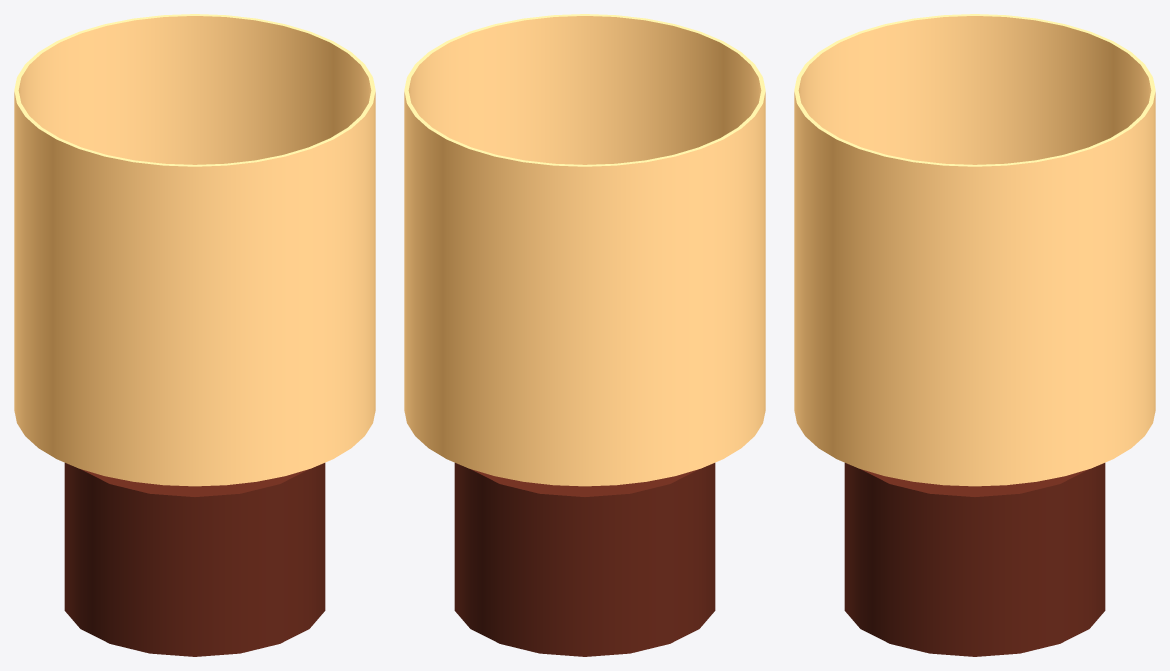
Rendered from Table_Lamp_RoundBase_RoundShade.fbx.
3 renders of one model, left to right at view 1: azimuth 30°, elevation 25°; view 2: azimuth 150°, elevation 25°; view 3: azimuth 270°, elevation 25°, orthographic.
Visible parts, largest first — view 1: Table_Lamp_RoundBase_RoundShade; view 2: Table_Lamp_RoundBase_RoundShade; view 3: Table_Lamp_RoundBase_RoundShade.
Boxes of the visible parts, bbox=[...] form: Table_Lamp_RoundBase_RoundShade: bbox=[14, 14, 375, 656]; Table_Lamp_RoundBase_RoundShade: bbox=[404, 14, 765, 656]; Table_Lamp_RoundBase_RoundShade: bbox=[794, 14, 1155, 656].
Bounding box in the file's own units: 30.75 × 47.93 × 30.75.
